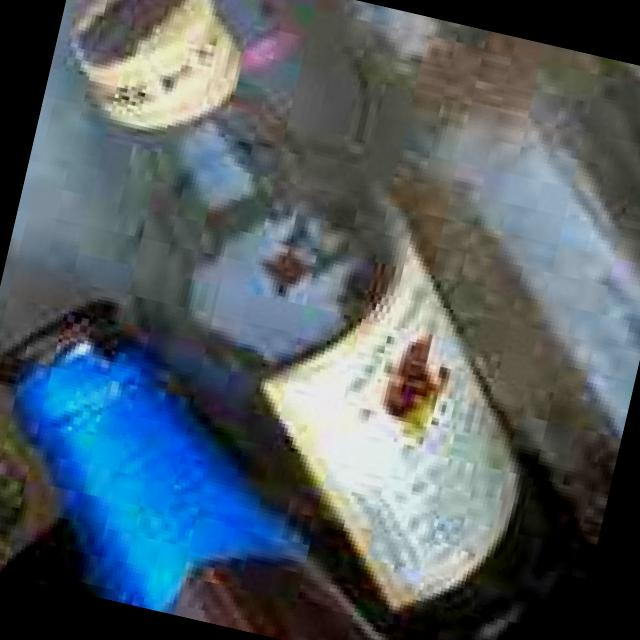giay: (260, 245, 517, 607)
kim_loai: (68, 0, 241, 128)
thuy_tinh: (0, 302, 380, 640), (117, 85, 402, 514), (383, 381, 596, 640)
